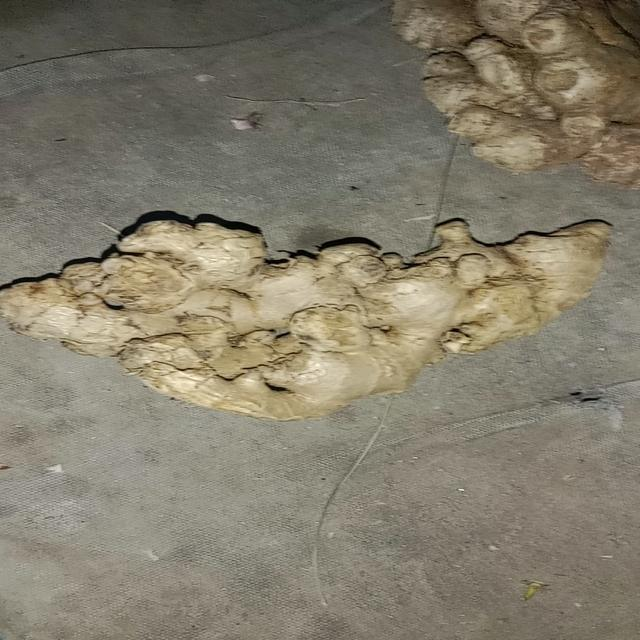ginger: (9, 205, 588, 420)
